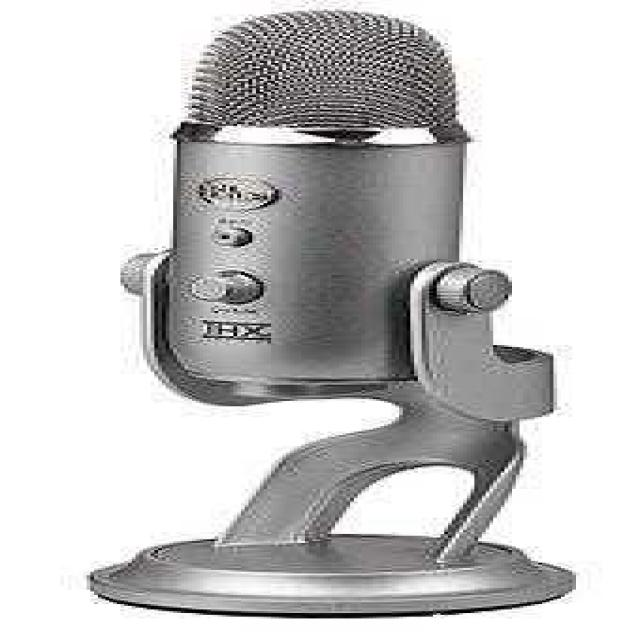microphone: (87, 15, 568, 614)
